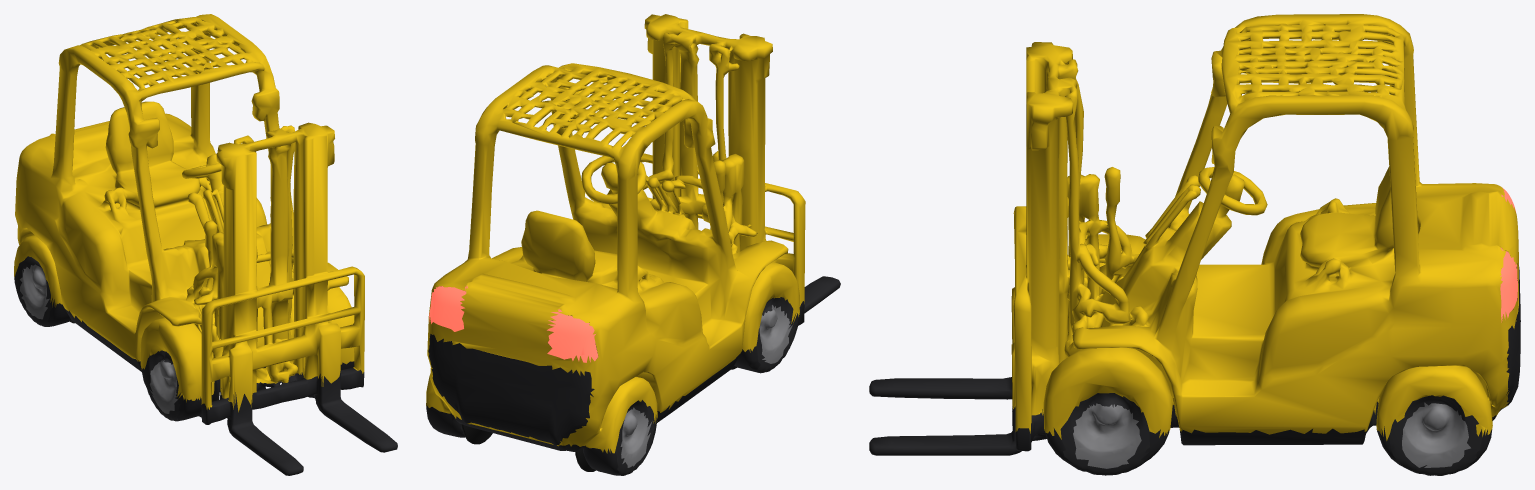
The model's file is Forklift.fbx.
3 views of the same model, side by side, from view 1: azimuth 30°, elevation 25°; view 2: azimuth 150°, elevation 25°; view 3: azimuth 270°, elevation 25° (orthographic). The views are drawn at different scales.
Parts seen in each view (by area): view 1: Body_Paint, Body_Trim, Wheel_RL_rim, Wheel_FL_rim, Wheel_FL_tyre, Wheel_RL_tyre; view 2: Body_Paint, Body_Trim, LightsRear, Wheel_FL_rim, Wheel_RL_rim, Wheel_FL_tyre, Wheel_RL_tyre; view 3: Body_Paint, Body_Trim, Wheel_RR_rim, Wheel_FR_rim, Wheel_FR_tyre, Wheel_RR_tyre, LightsRear.
Boxes of the visible parts, <box> form: Body_Paint: <box>14,14,364,412</box>; Body_Trim: <box>14,276,397,475</box>; Wheel_RL_rim: <box>20,264,62,319</box>; Wheel_FL_rim: <box>149,359,177,413</box>; Wheel_FL_tyre: <box>144,350,180,421</box>; Wheel_RL_tyre: <box>15,256,52,326</box>; Body_Paint: <box>426,14,805,453</box>; Body_Trim: <box>426,276,840,475</box>; LightsRear: <box>429,285,598,362</box>; Wheel_FL_rim: <box>759,305,792,363</box>; Wheel_RL_rim: <box>591,407,652,467</box>; Wheel_FL_tyre: <box>754,297,794,373</box>; Wheel_RL_tyre: <box>614,400,654,475</box>; Body_Paint: <box>1011,14,1518,440</box>; Body_Trim: <box>869,263,1520,469</box>; Wheel_RR_rim: <box>1402,402,1470,467</box>; Wheel_FR_rim: <box>1073,403,1141,468</box>; Wheel_FR_tyre: <box>1060,393,1149,475</box>; Wheel_RR_tyre: <box>1390,395,1482,475</box>; LightsRear: <box>1500,188,1517,322</box>.
Bounding box in the file's own units: 456 × 722 × 1141.
